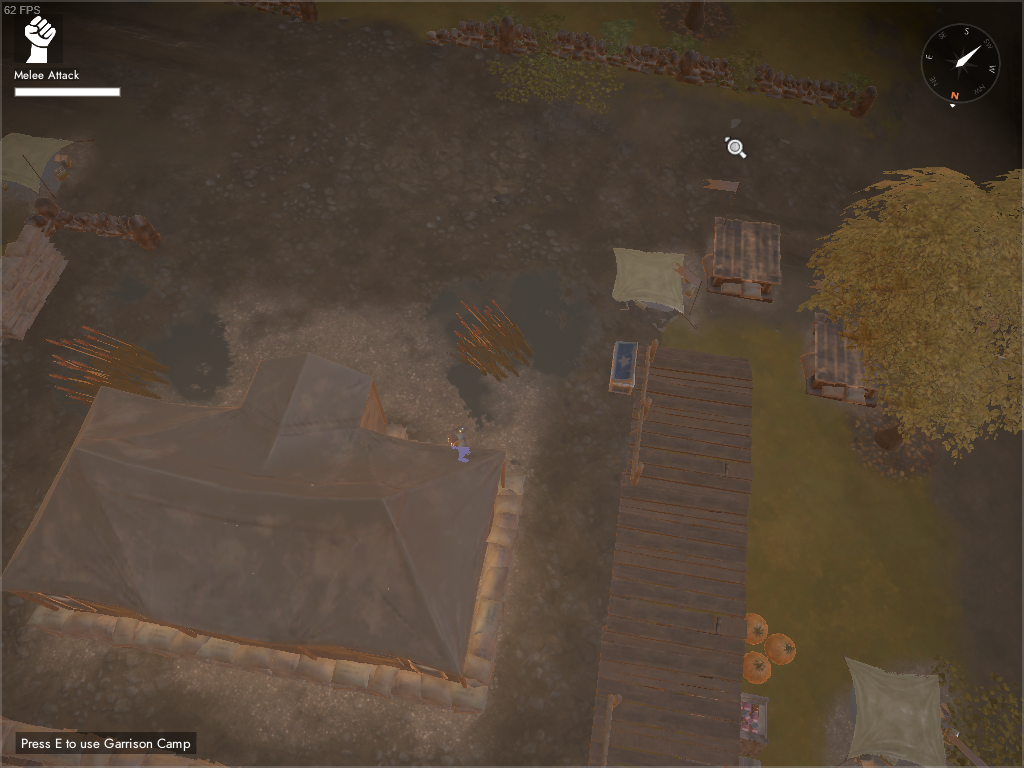foxhole: (833, 649, 956, 768), (1, 126, 96, 213), (610, 244, 704, 330)
pillbox: (699, 174, 788, 307), (799, 309, 885, 410)
player: (447, 425, 473, 463)
storage_box: (1, 223, 70, 344), (605, 339, 639, 394)
